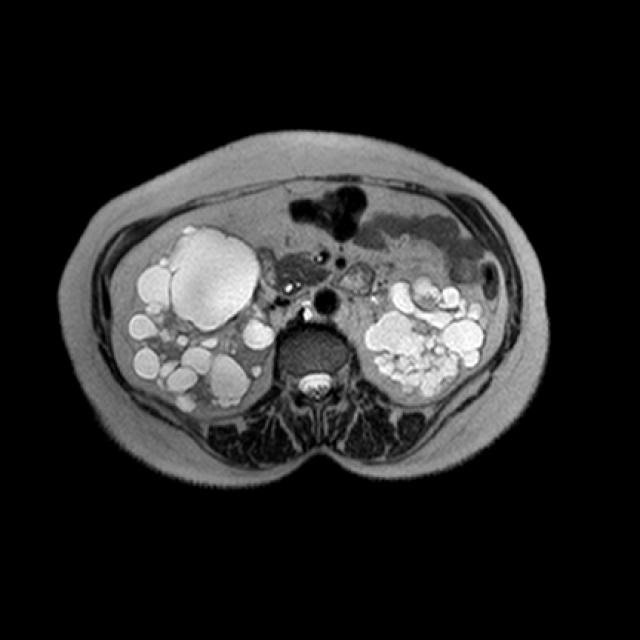sag: (118, 222, 282, 418)
sol: (364, 267, 486, 398)
